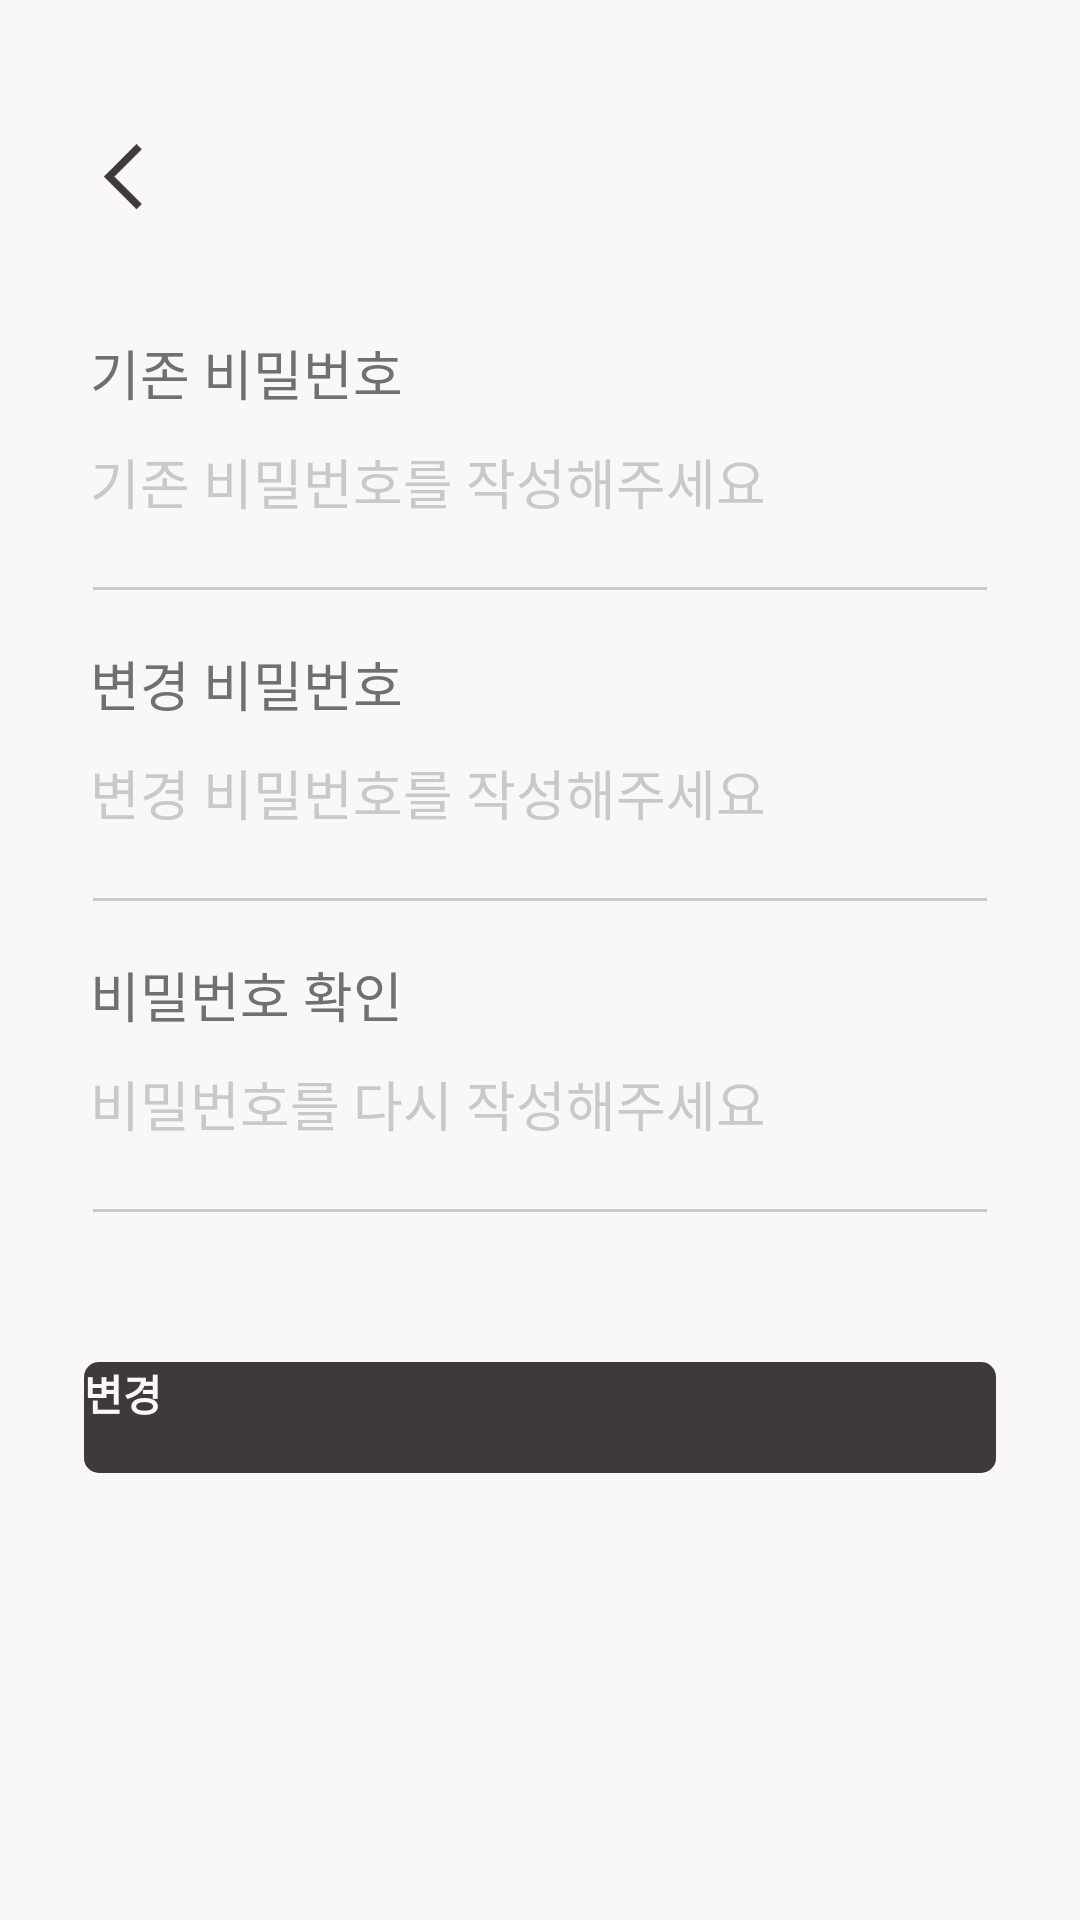

Where to tap for icons on this 1080x1920 app screen, as (x,y):
back: (123,176)
